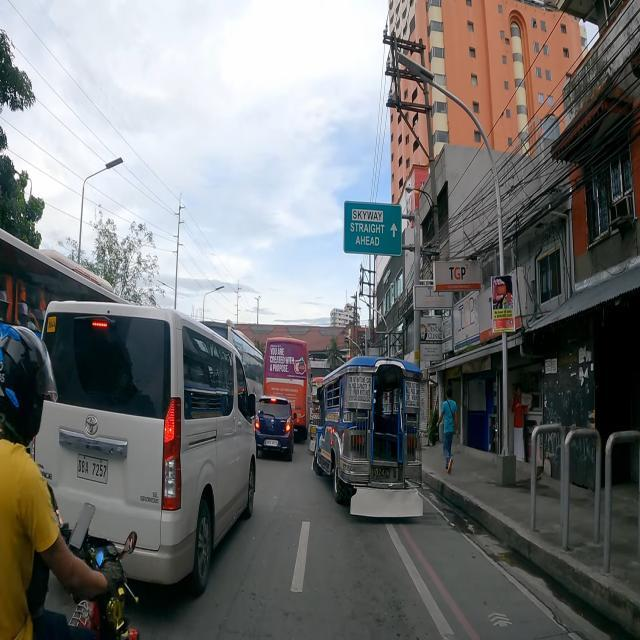bus: (0, 228, 128, 336), (203, 320, 263, 410), (264, 338, 312, 438)
car: (35, 301, 256, 597), (254, 395, 294, 460)
jeepney: (312, 356, 420, 517)
motorcycle: (0, 320, 139, 640)
